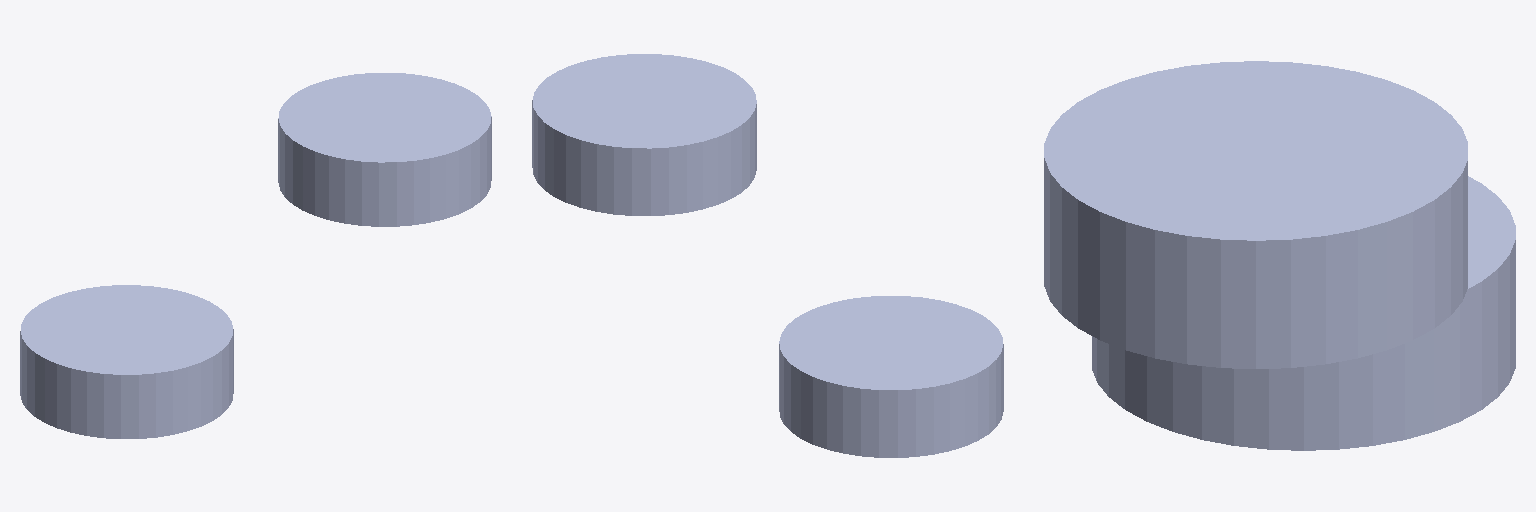
URDF robot description (Assem1):
<?xml version="1.0" encoding="utf-8"?>
<!-- This URDF was automatically created by SolidWorks to URDF Exporter! Originally created by [author] ([email redacted]) 
     Commit Version: 1.6.0-1-g15f4949  Build Version: 1.6.7594.29634
     For more information, please see http://wiki.ros.org/sw_urdf_exporter -->
<robot
  name="Assem1">


  <link
    name="truck_body">
    <inertial>
      <origin
        xyz="-0.067633 -0.0127 -0.00012836"
        rpy="0 0 0" />
      <mass
        value="50.32569" />
      <inertia
        ixx="0.00034762"
        ixy="-9.1908E-22"
        ixz="-2.0837E-06"
        iyy="0.00092476"
        iyz="-3.9642E-21"
        izz="0.00061217" />
    </inertial>
    <visual>
      <origin
        xyz="0 0 0"
        rpy="0 0 0" />
      <geometry>
        <mesh
          filename="package://Assem1/meshes/truck_body.STL" />
      </geometry>
      <material
        name="">
        <color
          rgba="0.79216 0.81961 0.93333 1" />
      </material>
    </visual>
    <collision>
      <origin
        xyz="0 0 0"
        rpy="0 0 0" />
      <geometry>
        <mesh
          filename="package://Assem1/meshes/truck_body.STL" />
      </geometry>
      <surface>
        <friction>
          <ode>
            <mu>0</mu>
            <mu2>0</mu2>
            <slip1>1.0</slip1>
            <slip2>1.0</slip2>
          </ode>
        </friction>
      </surface>
    </collision>
  </link>
  <link
    name="front_wheel">
    <inertial>
      <origin
        xyz="0 0 -0.0127"
        rpy="0 0 0" />
      <mass
        value="50.11583" />
      <inertia
        ixx="4.8264E-05"
        ixy="0"
        ixz="7.8626E-38"
        iyy="4.8264E-05"
        iyz="-1.0831E-37"
        izz="8.4072E-05" />
    </inertial>
    <visual>
      <origin
        xyz="0 0 0"
        rpy="0 0 0" />
      <geometry>
        <mesh
          filename="package://Assem1/meshes/front_wheel.STL" />
      </geometry>
      <material
        name="">
        <color
          rgba="0.79216 0.81961 0.93333 1" />
      </material>
    </visual>
    <collision>
      <origin
        xyz="0 0 0"
        rpy="0 0 0" />
      <geometry>
        <mesh
          filename="package://Assem1/meshes/front_wheel.STL" />
      </geometry>
      <surface>
        <friction>
          <ode>
            <mu>0</mu>
            <mu2>0</mu2>
            <slip1>1.0</slip1>
            <slip2>1.0</slip2>
          </ode>
        </friction>
      </surface>
    </collision>
  </link>
  <joint
    name="joint1"
    type="continuous">
    <origin
      xyz="-0.127 -0.0127 0.0127"
      rpy="0 0 0" />
    <parent
      link="truck_body" />
    <child
      link="front_wheel" />
    <axis
      xyz="0 0 1" />
    <limit
      effort="1"
      velocity="1" />
  </joint>
  <link
    name="rear_left_wheel">
    <inertial>
      <origin
        xyz="0 0 -0.0127"
        rpy="0 0 0" />
      <mass
        value="50.11583" />
      <inertia
        ixx="4.8264E-05"
        ixy="-8.1566E-53"
        ixz="7.1715E-22"
        iyy="4.8264E-05"
        iyz="-1.0831E-37"
        izz="8.4072E-05" />
    </inertial>
    <visual>
      <origin
        xyz="0 0 0"
        rpy="0 0 0" />
      <geometry>
        <mesh
          filename="package://Assem1/meshes/rear_left_wheel.STL" />
      </geometry>
      <material
        name="">
        <color
          rgba="0.79216 0.81961 0.93333 1" />
      </material>
    </visual>
    <collision>
      <origin
        xyz="0 0 0"
        rpy="0 0 0" />
      <geometry>
        <mesh
          filename="package://Assem1/meshes/rear_left_wheel.STL" />
      </geometry>
      <surface>
        <friction>
          <ode>
            <mu>0</mu>
            <mu2>0</mu2>
            <slip1>1.0</slip1>
            <slip2>1.0</slip2>
          </ode>
        </friction>
      </surface>
    </collision>
  </link>
  <joint
    name="joint2"
    type="continuous">
    <origin
      xyz="-0.0254 -0.021138 0.0762"
      rpy="0 0 0" />
    <parent
      link="truck_body" />
    <child
      link="rear_left_wheel" />
    <axis
      xyz="0 0 1" />
    <limit
      effort="1"
      velocity="1" />
  </joint>
  <link
    name="rear_right_wheel">
    <inertial>
      <origin
        xyz="0 0 0.0127"
        rpy="0 0 0" />
      <mass
        value="50.11583" />
      <inertia
        ixx="4.8264E-05"
        ixy="-8.1566E-53"
        ixz="7.1715E-22"
        iyy="4.8264E-05"
        iyz="-1.0831E-37"
        izz="8.4072E-05" />
    </inertial>
    <visual>
      <origin
        xyz="0 0 0"
        rpy="0 0 0" />
      <geometry>
        <mesh
          filename="package://Assem1/meshes/rear_right_wheel.STL" />
      </geometry>
      <material
        name="">
        <color
          rgba="0.79216 0.81961 0.93333 1" />
      </material>
    </visual>
    <collision>
      <origin
        xyz="0 0 0"
        rpy="0 0 0" />
      <geometry>
        <mesh
          filename="package://Assem1/meshes/rear_right_wheel.STL" />
      </geometry>
      <surface>
        <friction>
          <ode>
            <mu>0</mu>
            <mu2>0</mu2>
            <slip1>1.0</slip1>
            <slip2>1.0</slip2>
          </ode>
        </friction>
      </surface>
    </collision>
  </link>
  <joint
    name="joint3"
    type="continuous">
    <origin
      xyz="-0.0254 -0.021138 -0.0762"
      rpy="0 0 0" />
    <parent
      link="truck_body" />
    <child
      link="rear_right_wheel" />
    <axis
      xyz="0 0 1" />
    <limit
      effort="1"
      velocity="1" />
  </joint>


  <transmission name="tran1">
    <type>transmission_interface/SimpleTransmission</type>
    <joint name="joint1">
      <hardwareInterface>hardware_interface/EffortJointInterface</hardwareInterface>
    </joint>
    <actuator name="motor1">
      <hardwareInterface>hardware_interface/EffortJointInterface</hardwareInterface>
      <mechanicalReduction>1</mechanicalReduction>
    </actuator>
  </transmission>

  <transmission name="tran2">
    <type>transmission_interface/SimpleTransmission</type>
    <joint name="joint2">
      <hardwareInterface>hardware_interface/EffortJointInterface</hardwareInterface>
    </joint>
    <actuator name="motor2">
      <hardwareInterface>hardware_interface/EffortJointInterface</hardwareInterface>
      <mechanicalReduction>1</mechanicalReduction>
    </actuator>
  </transmission>

  <transmission name="tran3">
    <type>transmission_interface/SimpleTransmission</type>
    <joint name="joint3">
      <hardwareInterface>hardware_interface/EffortJointInterface</hardwareInterface>
    </joint>
    <actuator name="motor3">
      <hardwareInterface>hardware_interface/EffortJointInterface</hardwareInterface>
      <mechanicalReduction>1</mechanicalReduction>
    </actuator>
  </transmission>

  <gazebo>
    <plugin name="gazebo_ros_control" filename="libgazebo_ros_control.so">
      <robotNamespace>/Assem1</robotNamespace>
      <robotSimType>gazebo_ros_control/DefaultRobotHWSim</robotSimType>
    </plugin>
  </gazebo>
</robot>

--- Render facts (derived) ---
Views: 3 orthographic renders of the robot side by side, from view 1: azimuth 30°, elevation 25°; view 2: azimuth 150°, elevation 25°; view 3: azimuth 270°, elevation 25°.
Robot: Assem1 — 4 links, 3 joints (3 continuous); root link truck_body; default pose: all joints at 0.
Links seen in each view (by area): view 1: front_wheel, rear_left_wheel; view 2: front_wheel, rear_left_wheel; view 3: rear_left_wheel, front_wheel.
Link boxes in pixels (x1,y1,x2,y2): front_wheel: (20,285,233,438); rear_left_wheel: (278,73,491,226); front_wheel: (779,296,1003,457); rear_left_wheel: (532,54,756,215); rear_left_wheel: (1044,61,1467,368); front_wheel: (1092,176,1515,450).
Size in the robot's own frame: 0.1778 by 0.0844 by 0.0889 metres.
Meshes: 4 distinct files referenced, 2 mesh visuals loaded (2 binary STL); not drawn: 2 (reference not matched to a file when rendering).
